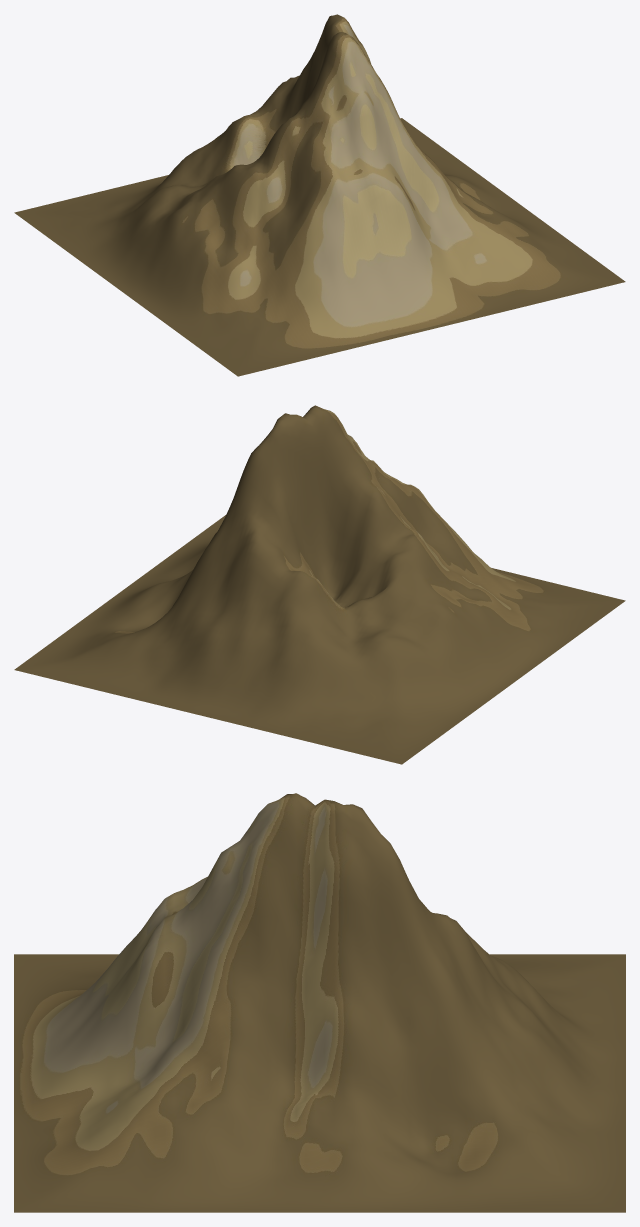
The picture shows the model from 3 angles, top to bottom: view 1: azimuth 30°, elevation 25°; view 2: azimuth 150°, elevation 25°; view 3: azimuth 270°, elevation 25°; orthographic projection. The views are drawn at different scales.
Parts seen in each view (by area): view 1: Landscape.1; view 2: Landscape.1; view 3: Landscape.1.
Boxes of the visible parts, x1=… form: Landscape.1: x1=14, y1=14, x2=625, y2=376; Landscape.1: x1=14, y1=405, x2=625, y2=764; Landscape.1: x1=14, y1=793, x2=625, y2=1212.
Bounding box in the file's own units: 1000 × 539 × 1000.
Materials: 1 (1 with a texture image).
